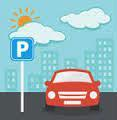car: (37, 66, 102, 111)
